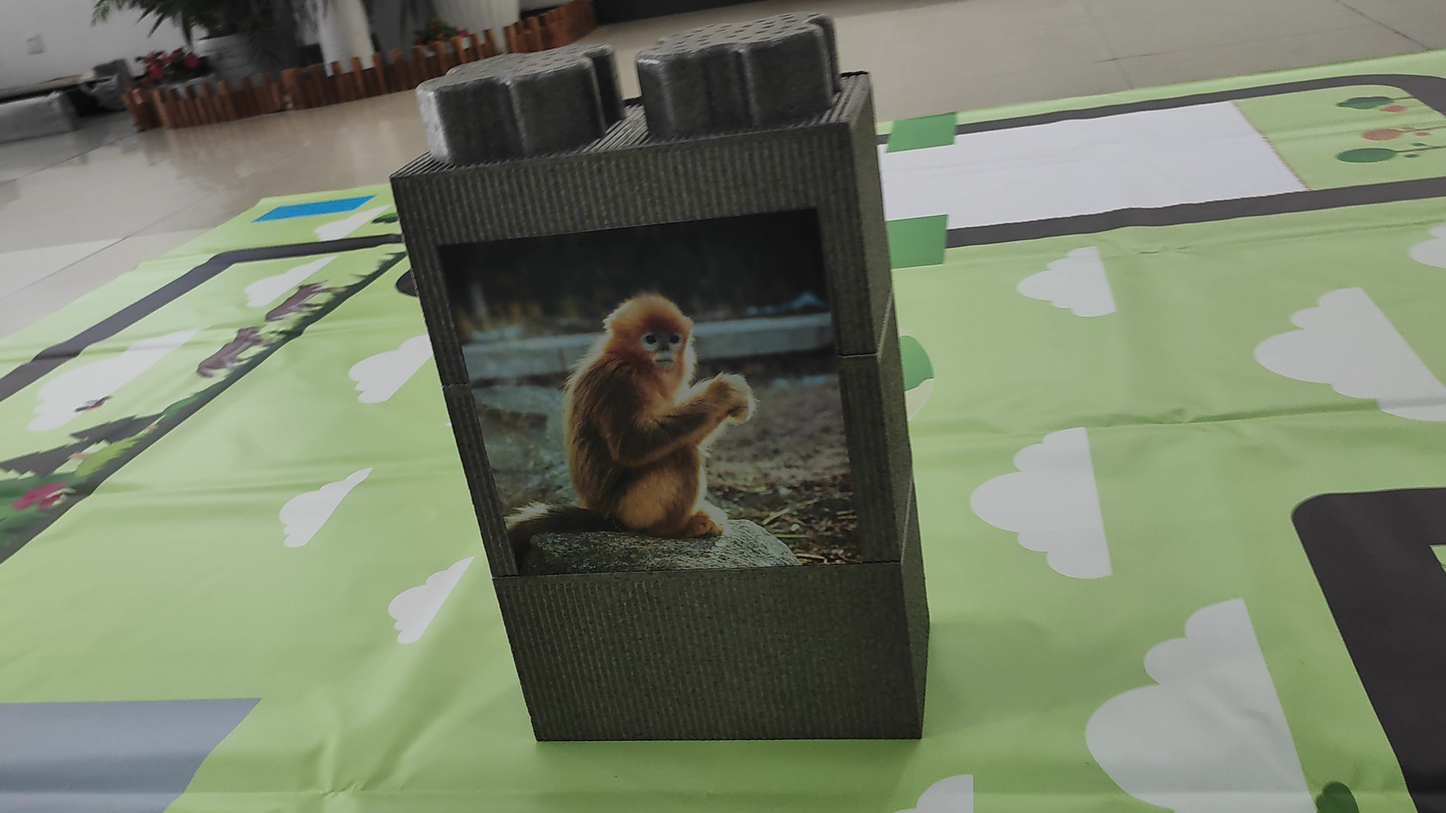monkey: (507, 264, 776, 572)
